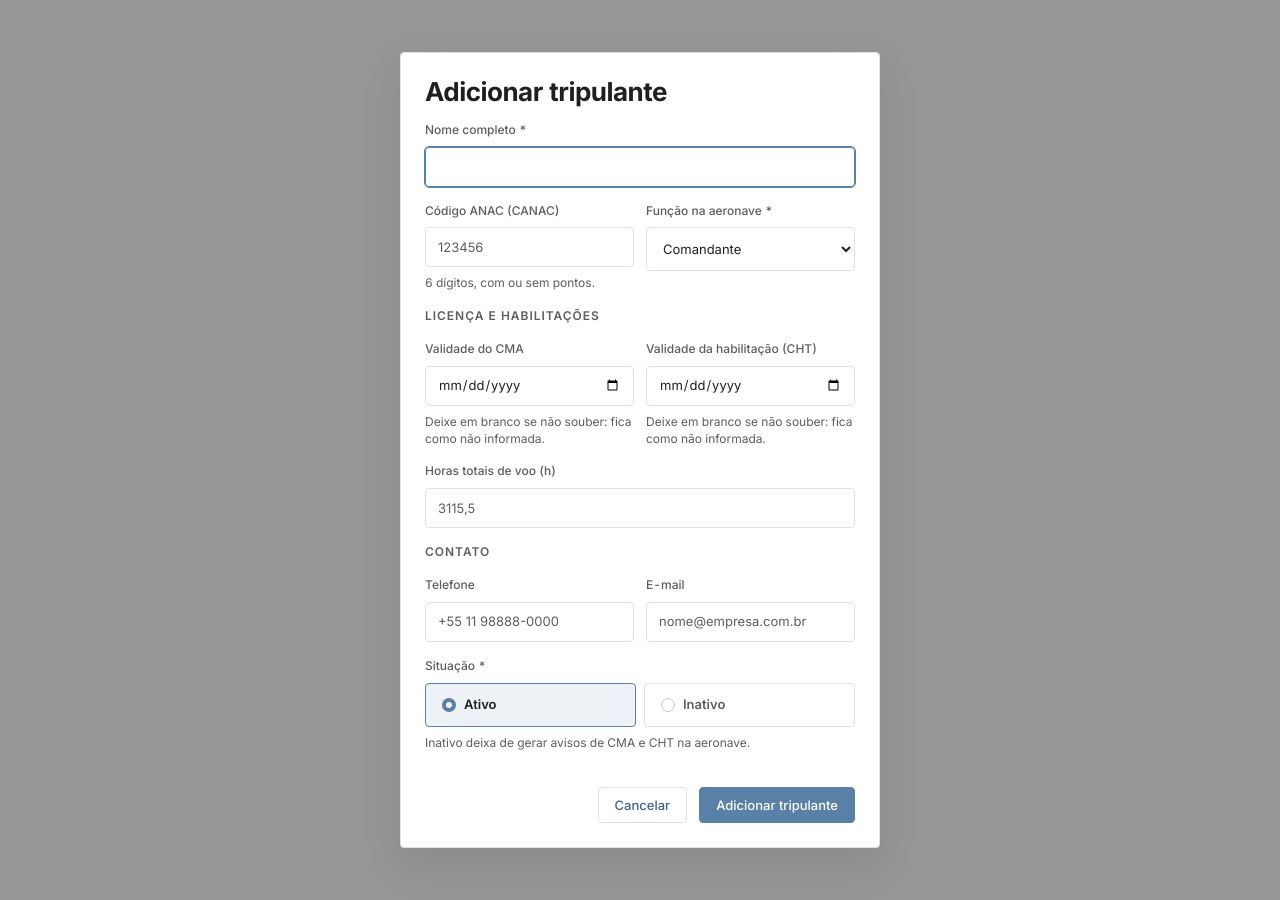
PainelDeTripulante › salvar em branco leva o foco ao nome e o resumo diz o que falta
Click the button "Adicionar tripulante" at (777, 805), box [699,787,855,823]
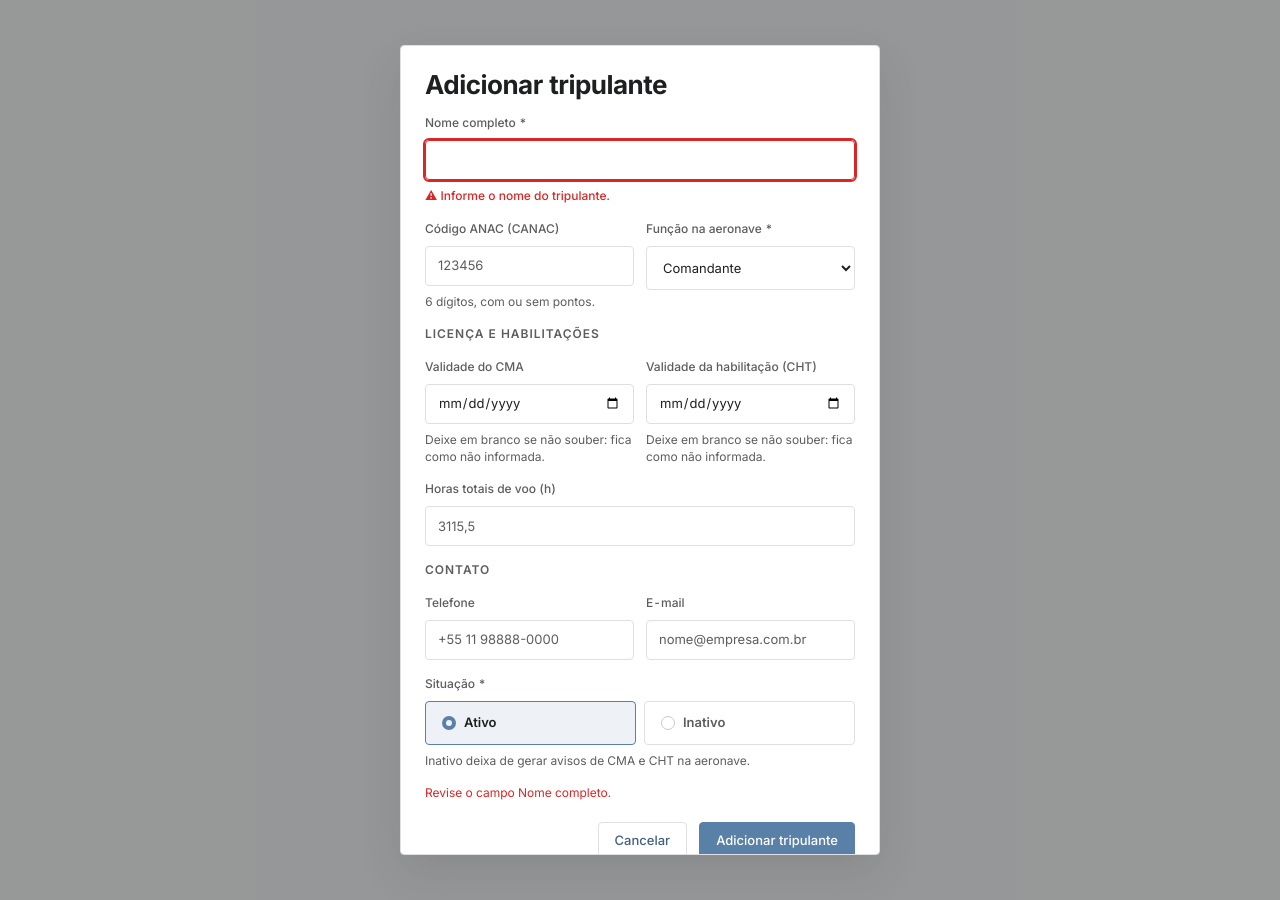
Result: the message reads "Revise o campo Nome completo." at [425,786,611,800]
